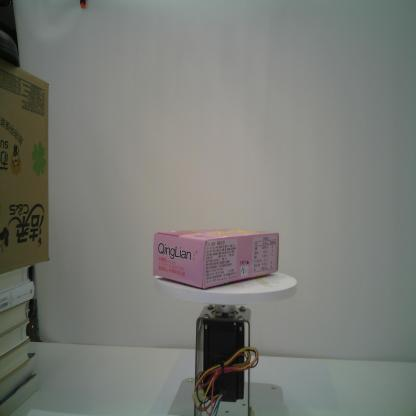Dessert: (153, 227, 279, 289)
